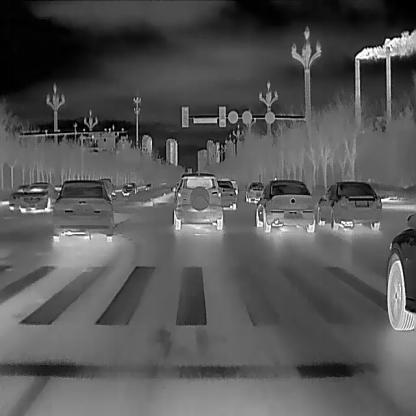car: (50, 178, 116, 244), (386, 210, 416, 330), (254, 178, 315, 232), (316, 180, 381, 230), (170, 172, 223, 229), (18, 181, 61, 212), (215, 177, 237, 211), (8, 184, 27, 211), (244, 178, 263, 203), (99, 175, 115, 195), (120, 180, 138, 196)
